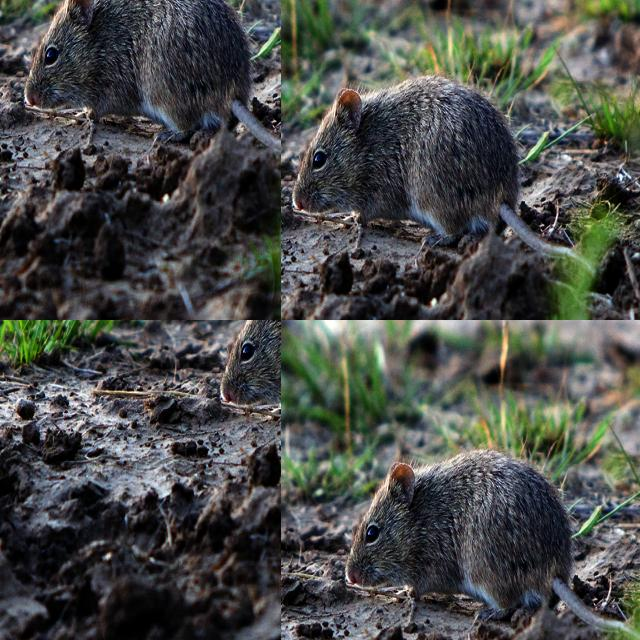rat: (343, 460, 572, 622), (0, 320, 104, 367), (123, 320, 169, 422)
